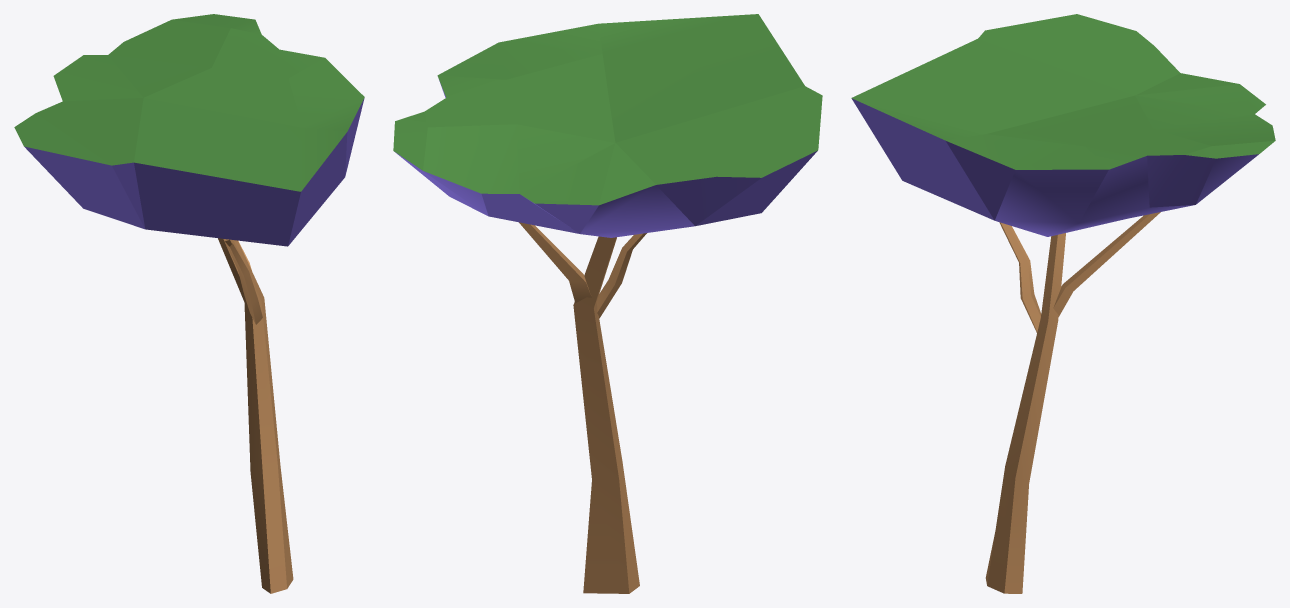
Rendered from tree_A_canopy_B_C_solo_LOD2.fbx.
The picture shows the model from 3 angles, left to right: view 1: azimuth 30°, elevation 25°; view 2: azimuth 150°, elevation 25°; view 3: azimuth 270°, elevation 25°; orthographic projection. The views are drawn at different scales.
Visible parts, largest first — view 1: tree_A_canopy_B_C, tree_B_canopy_B_C_trunk_A, tree_B_canopy_B_C_trunk_B; view 2: tree_A_canopy_B_C, tree_B_canopy_B_C_trunk_A, tree_B_canopy_B_C_trunk_C, tree_B_canopy_B_C_trunk_B; view 3: tree_A_canopy_B_C, tree_B_canopy_B_C_trunk_A, tree_B_canopy_B_C_trunk_C, tree_B_canopy_B_C_trunk_B.
Part boxes in pixels (bbox=[...]): tree_A_canopy_B_C: bbox=[14, 14, 364, 246]; tree_B_canopy_B_C_trunk_A: bbox=[218, 238, 293, 593]; tree_B_canopy_B_C_trunk_B: bbox=[224, 240, 262, 324]; tree_A_canopy_B_C: bbox=[393, 14, 822, 237]; tree_B_canopy_B_C_trunk_A: bbox=[573, 236, 639, 593]; tree_B_canopy_B_C_trunk_C: bbox=[519, 222, 591, 303]; tree_B_canopy_B_C_trunk_B: bbox=[596, 233, 646, 318]; tree_A_canopy_B_C: bbox=[851, 14, 1275, 236]; tree_B_canopy_B_C_trunk_A: bbox=[985, 233, 1065, 593]; tree_B_canopy_B_C_trunk_C: bbox=[1053, 212, 1160, 316]; tree_B_canopy_B_C_trunk_B: bbox=[999, 222, 1041, 332].
Bounding box in the file's own units: 337 × 477 × 389.
